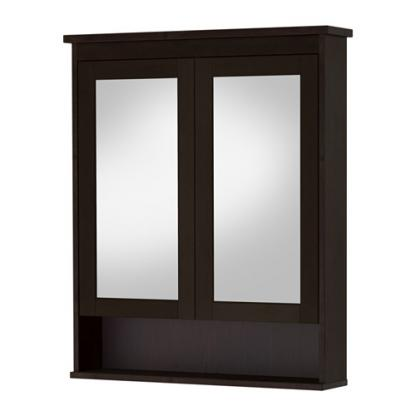Cabinet: (60, 21, 358, 396)
